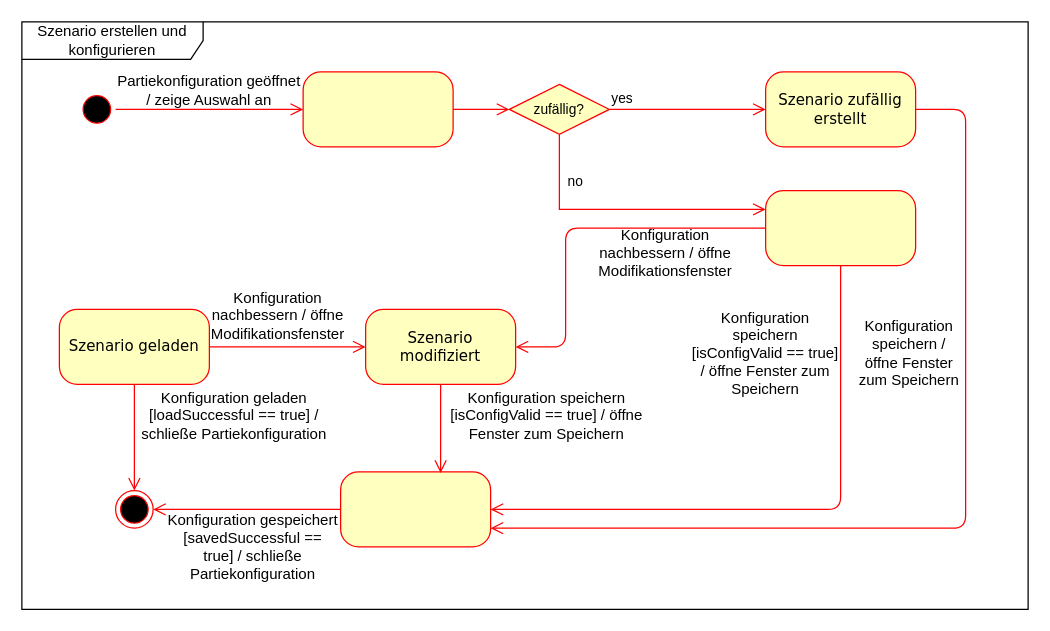
Some shapes in this 1050 by 631 pixel diagram are drawn without their labels. The centre of each missing label's shape, as x and y in pixels:
"Auswahl Laden / Erstellen" belongs at [377,109].
"Szenario erstellt" belongs at [840,227].
"Szenario gespeichert" belongs at [415,509].
